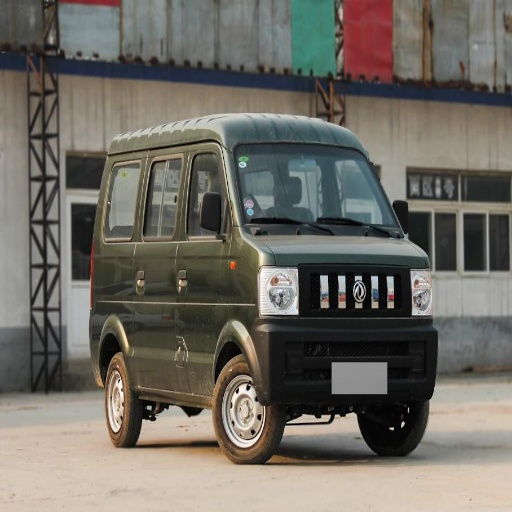front_bumper: (261, 267, 438, 407)
front_right_door: (179, 143, 234, 280)
trunk: (136, 263, 245, 393), (96, 281, 134, 349)
